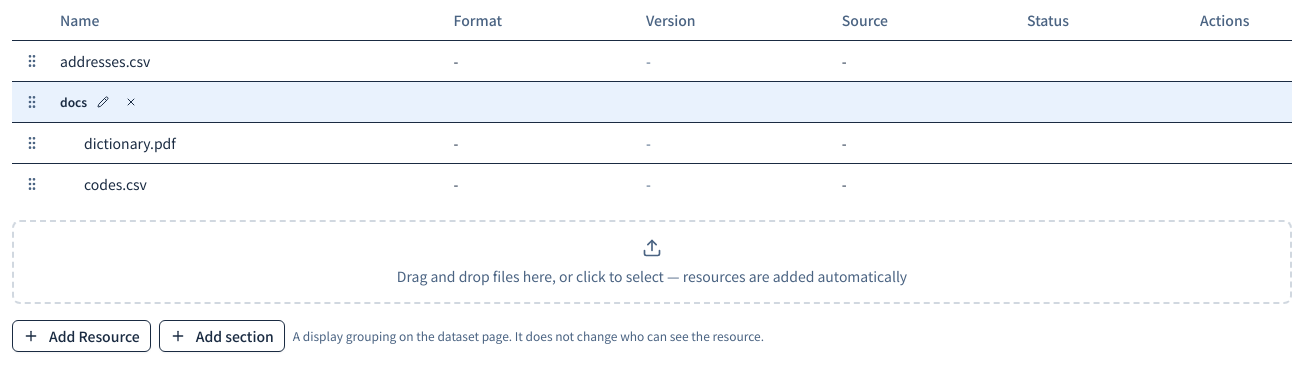
Scenario: ResourceList heading editing › locks the grips while a heading is being renamed
This screenshot has width=1292, height=373.
Click the button named "Rename section" at (103, 102), box [91,90,115,114]
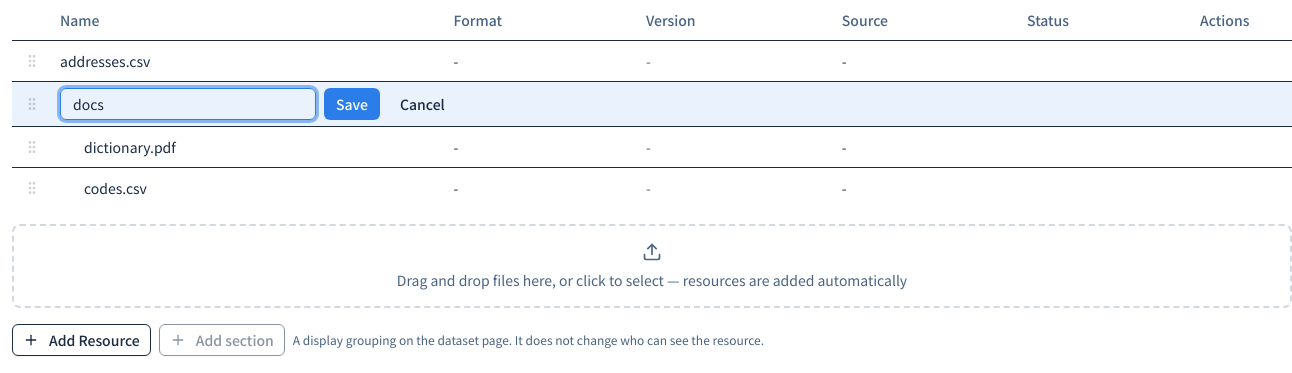
Now the 1st button named "Reorder" is disabled, box [20,48,44,72]
Now the 2nd button named "Reorder" is disabled, box [20,134,44,158]
Now the 3rd button named "Reorder" is disabled, box [20,176,44,200]
